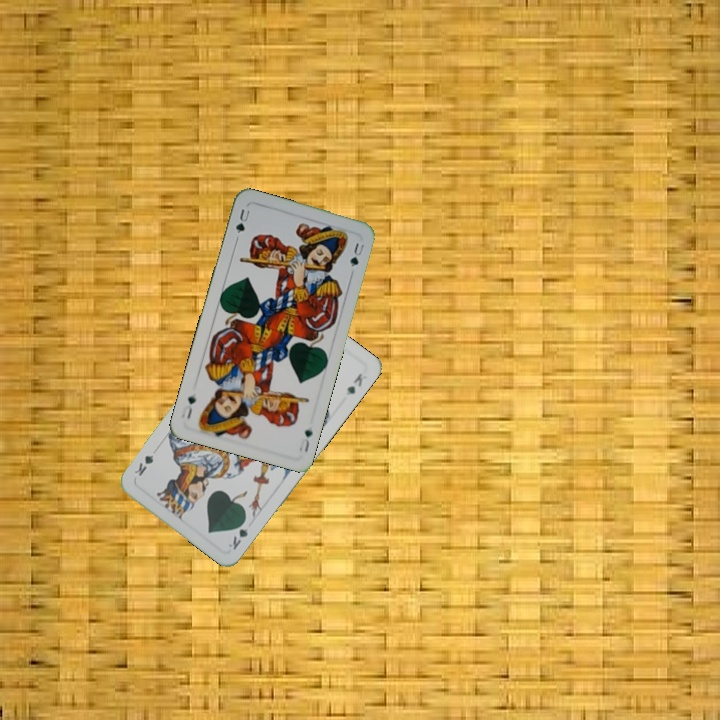GK: (224, 515, 251, 553)
GU: (231, 205, 253, 242), (295, 425, 315, 455)
